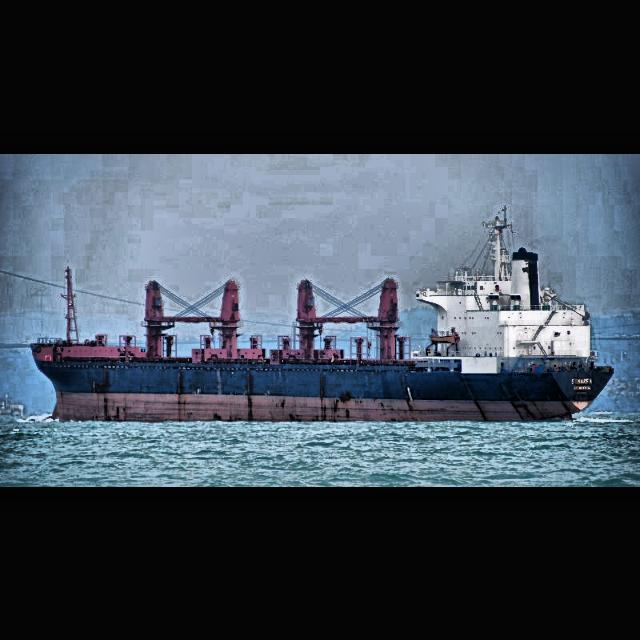bulk_carrier: (29, 205, 615, 422)
